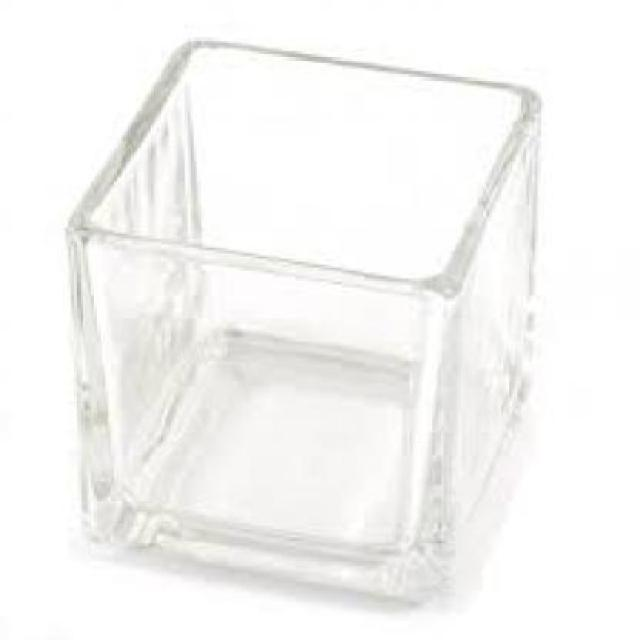kaca: (63, 34, 539, 600)
